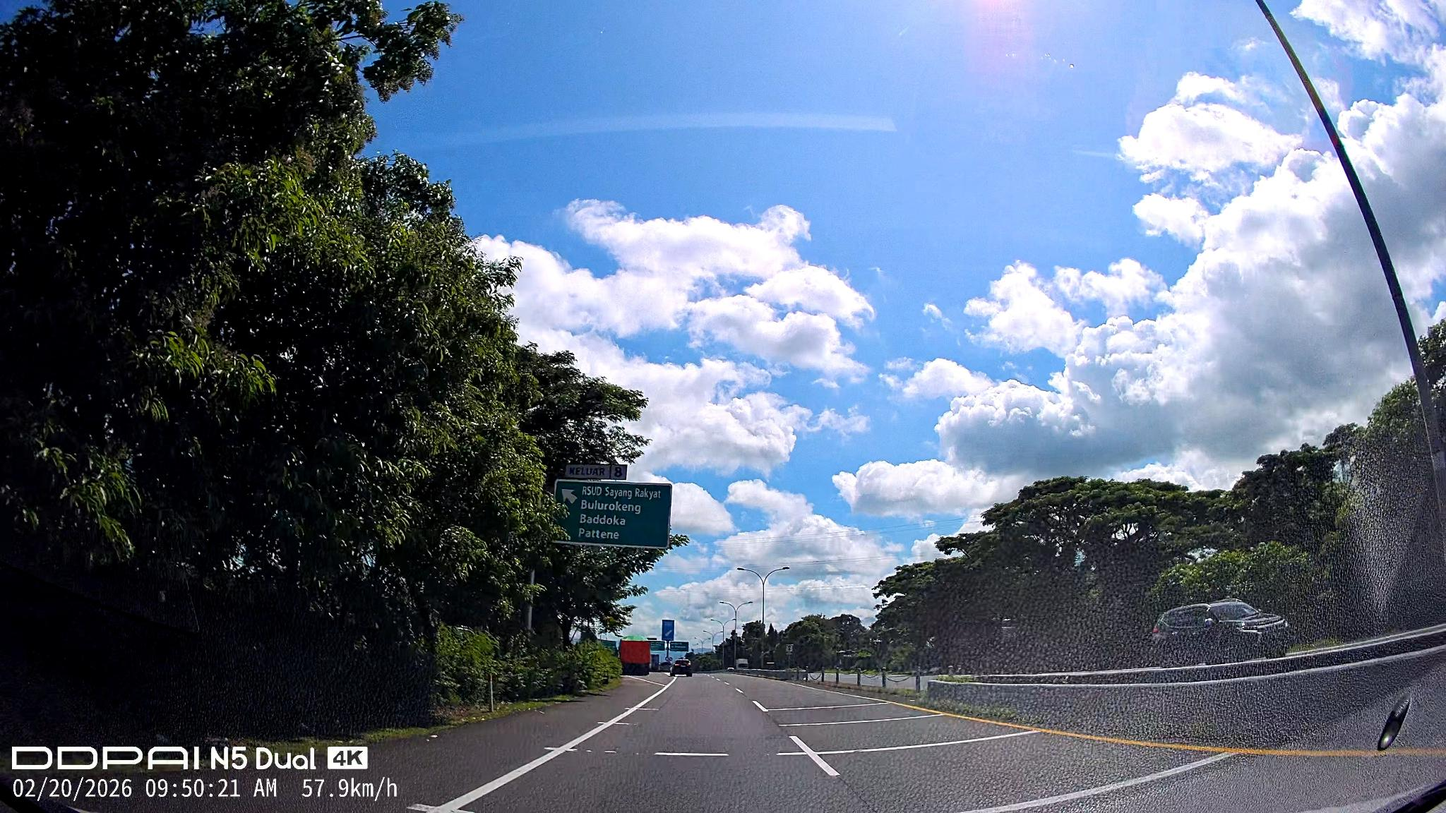rambu_teks: (555, 478, 673, 549)
